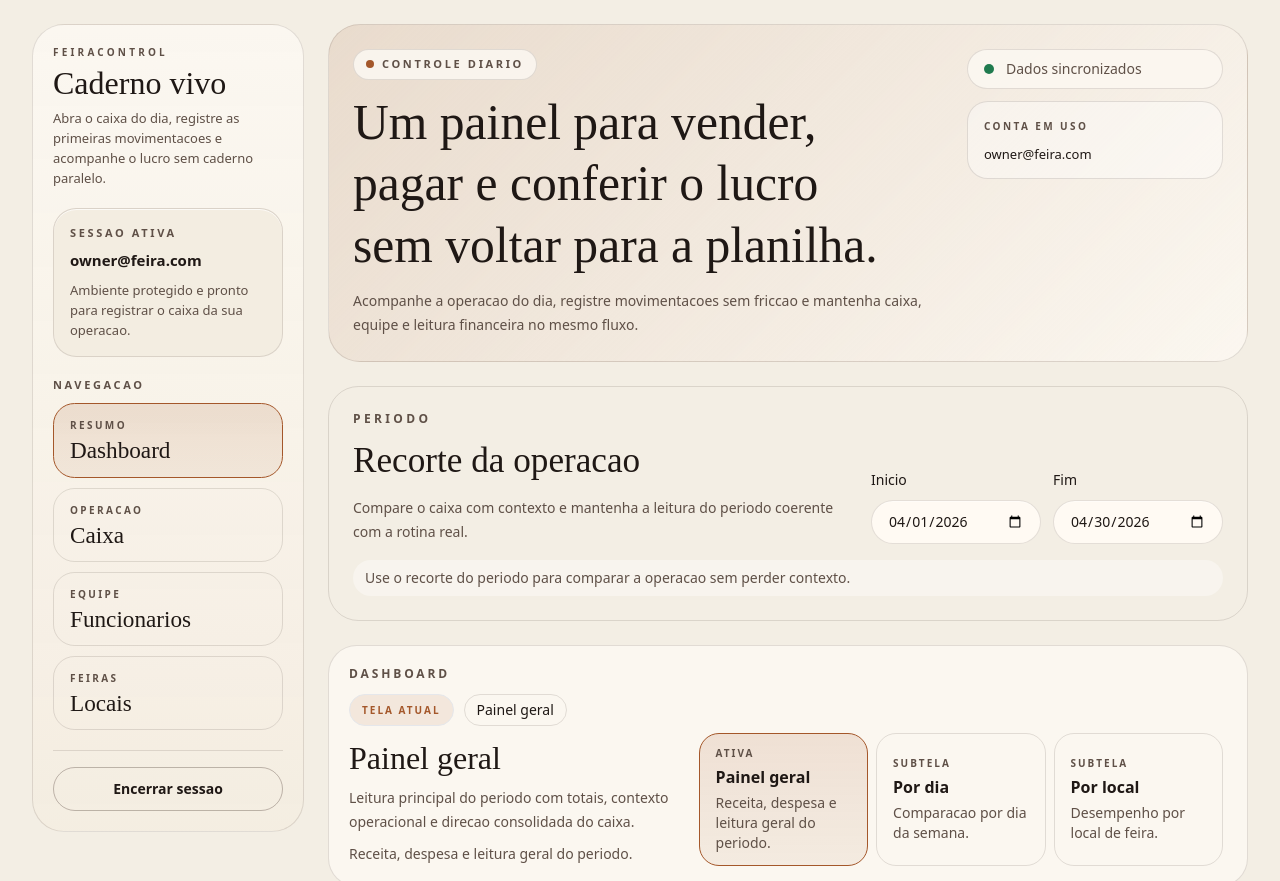
Scenario: App context flows › retorna para equipe ativa com feedback visivel apos registrar repasse
Step 1. Click the button with test id "nav-employees" → click(168, 609), box [53, 572, 283, 646]
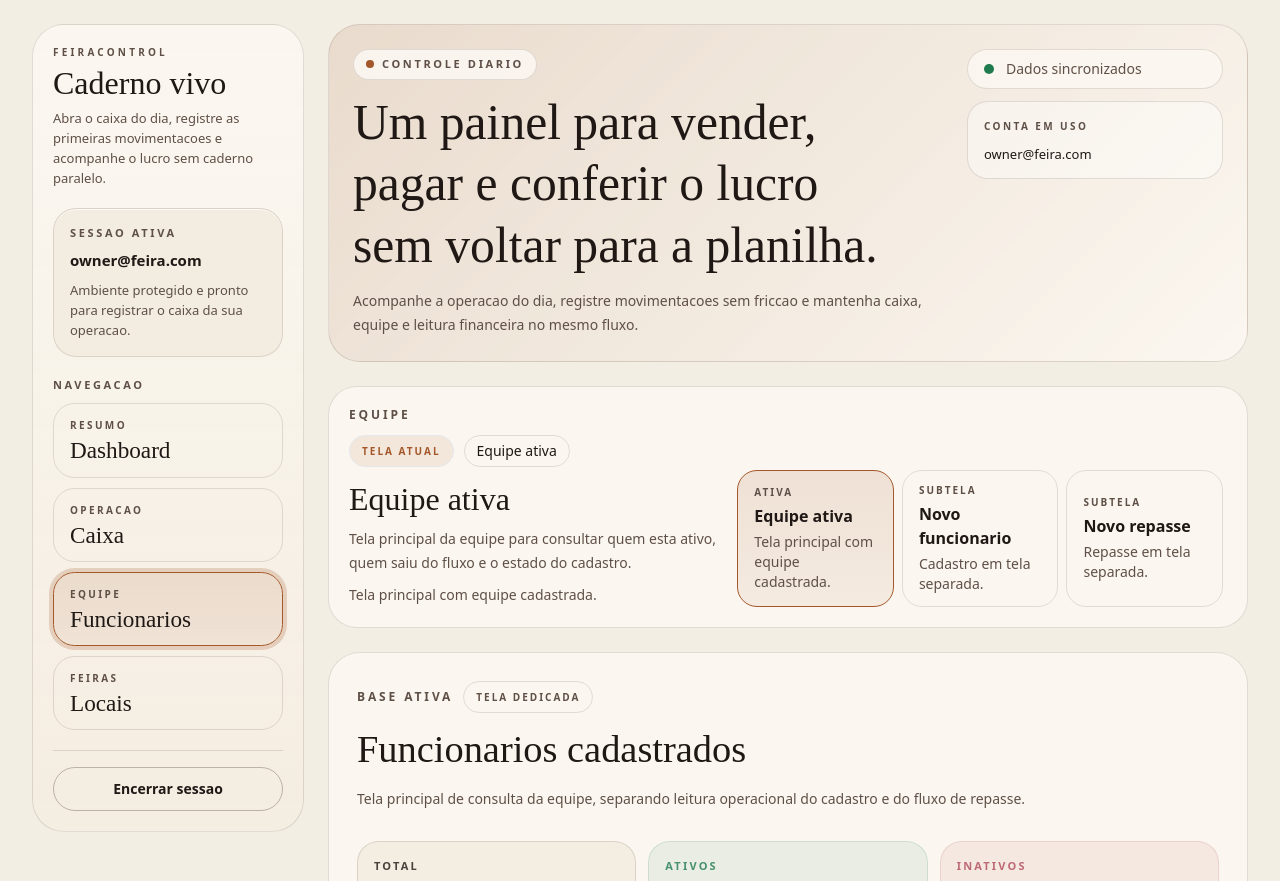
Step 2. Click the tab "Subtela Novo repasse Repasse em tela separada." → click(1145, 539), box [1066, 470, 1223, 608]
(page scrolled)
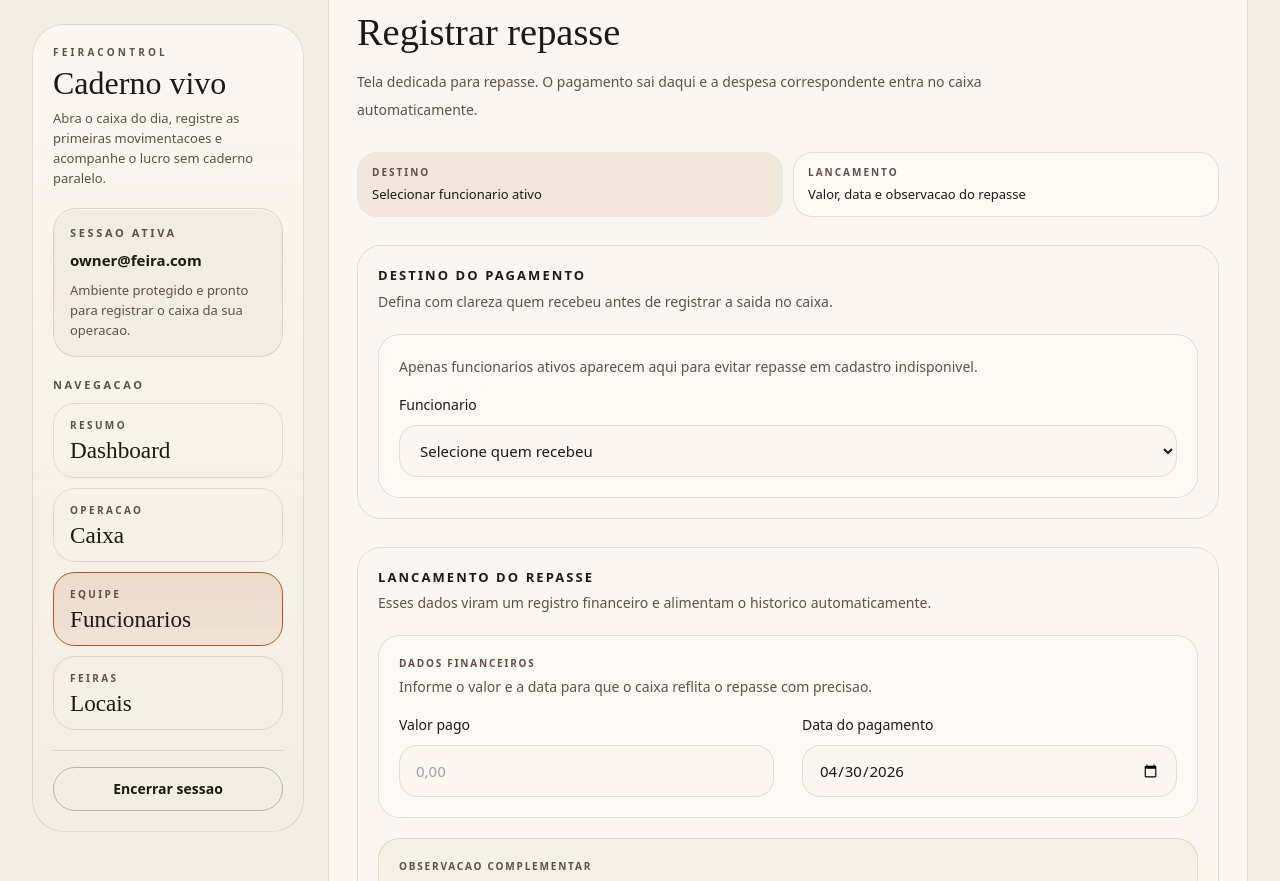
Step 3. Select "Maria Clara" in the dropdown labelled "Funcionario" → (788, 451), box [399, 425, 1177, 477]
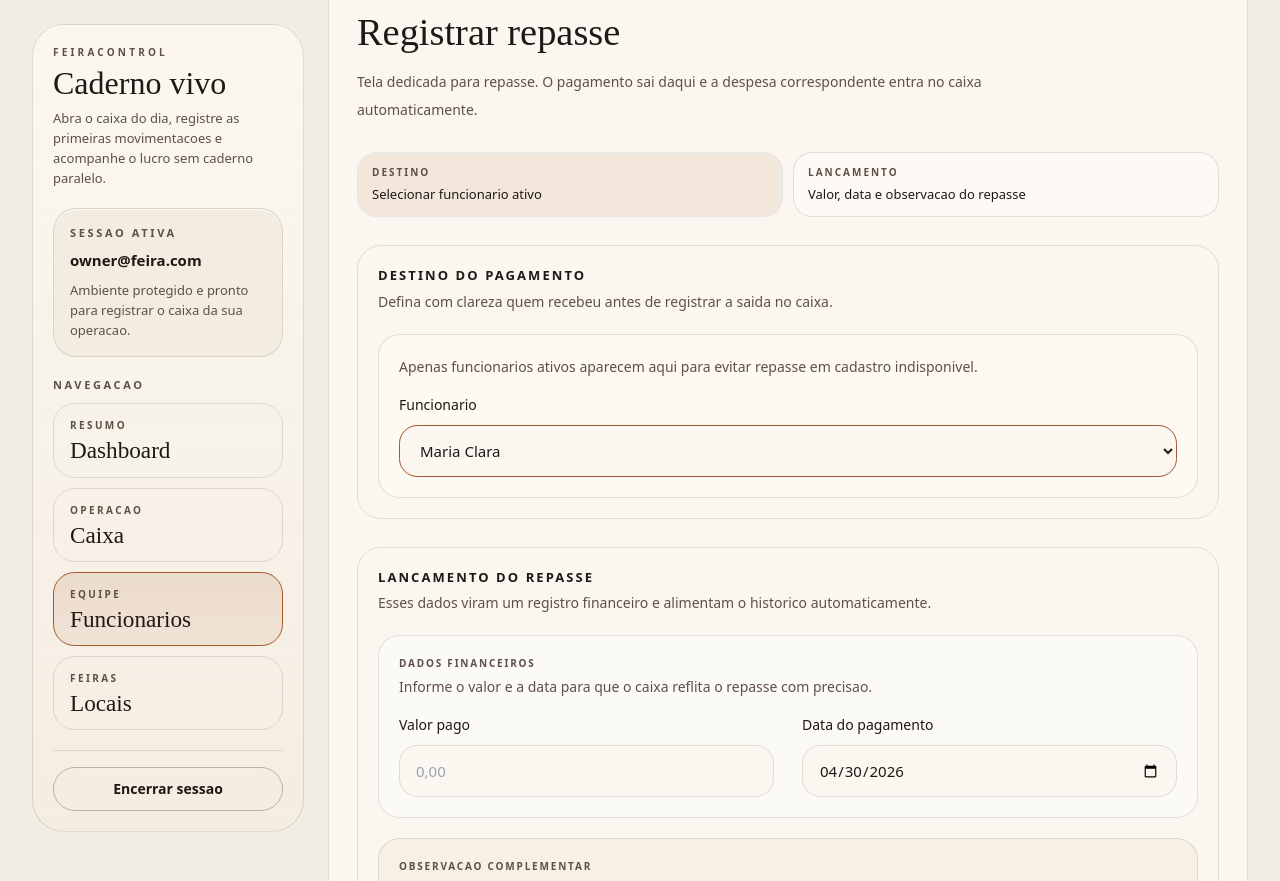
Step 4. Type "120" into the number field labelled "Valor pago" → (586, 772), box [399, 746, 774, 798]
(page scrolled)
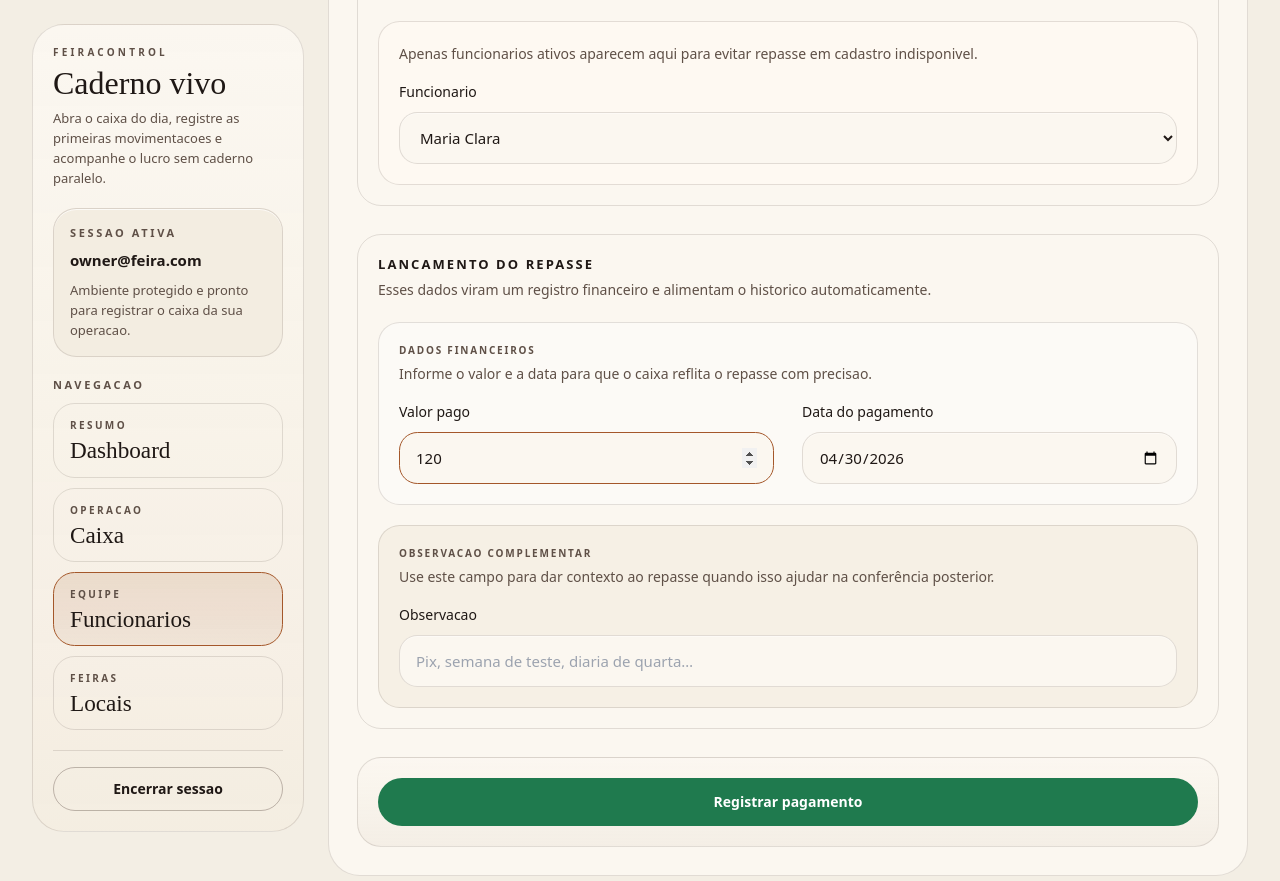
Step 5. Click the button "Registrar pagamento" → click(788, 802), box [378, 778, 1198, 826]
(page scrolled)
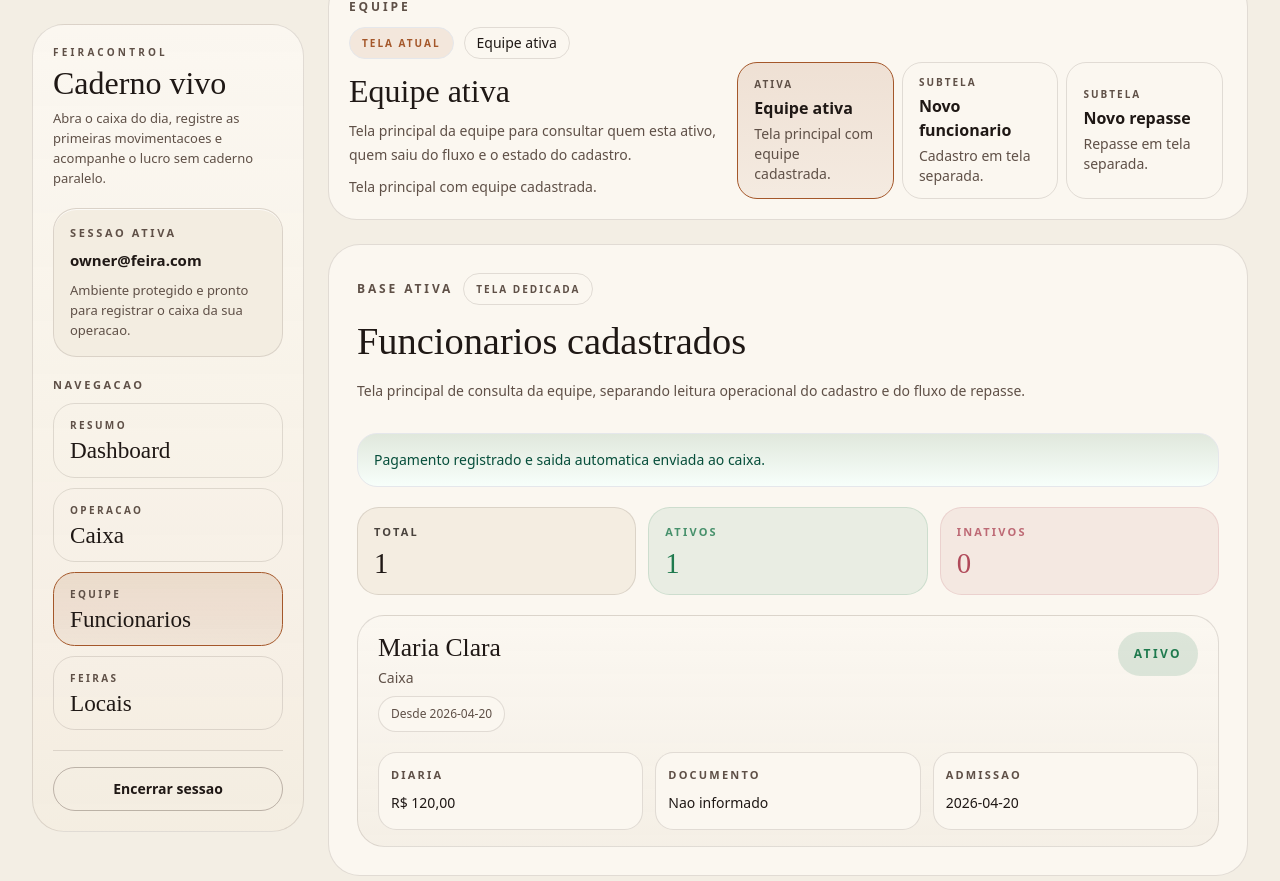
Expected: the text "Pagamento registrado e saida automatica enviada ao caixa." is shown, [357, 434, 1219, 488]
Expected: the heading "Funcionarios cadastrados" is shown, [357, 320, 746, 362]
